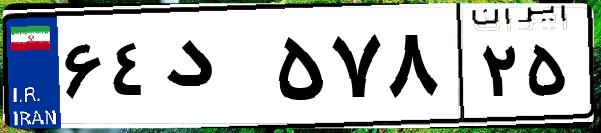2: (475, 38, 525, 113)
4: (110, 28, 158, 98)
5: (270, 28, 330, 110), (525, 38, 570, 115)
6: (57, 26, 110, 100)
7: (330, 28, 385, 110)
8: (385, 28, 445, 110)
د: (158, 20, 270, 120)
